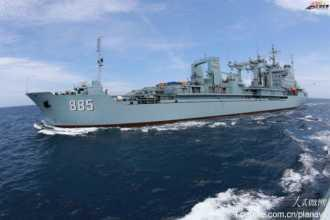warship: (24, 32, 314, 127)
